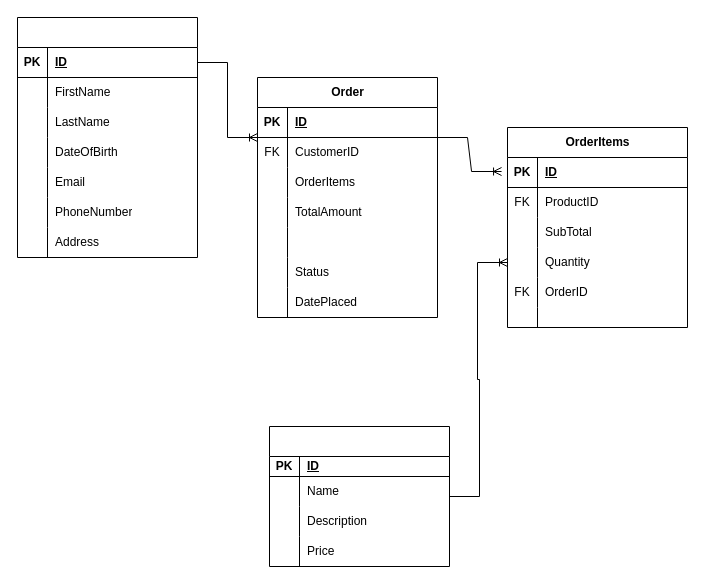
Some shapes in this 705 by 584 pixel diagram are drawn without their labels. The shapes that lost their labels are listed below. From the top down, each one's box as (x1, y1, x2, y2) in pixels, then its label:
(16, 16, 198, 258): Customer
(268, 426, 450, 566): Product
